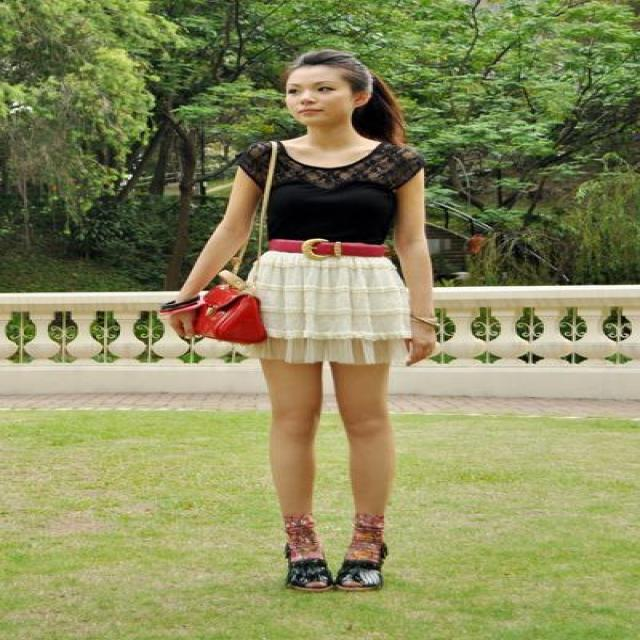bag: (172, 282, 266, 344)
shirt: (211, 144, 419, 242)
shoe: (285, 516, 387, 592)
skirt: (219, 251, 419, 370)
